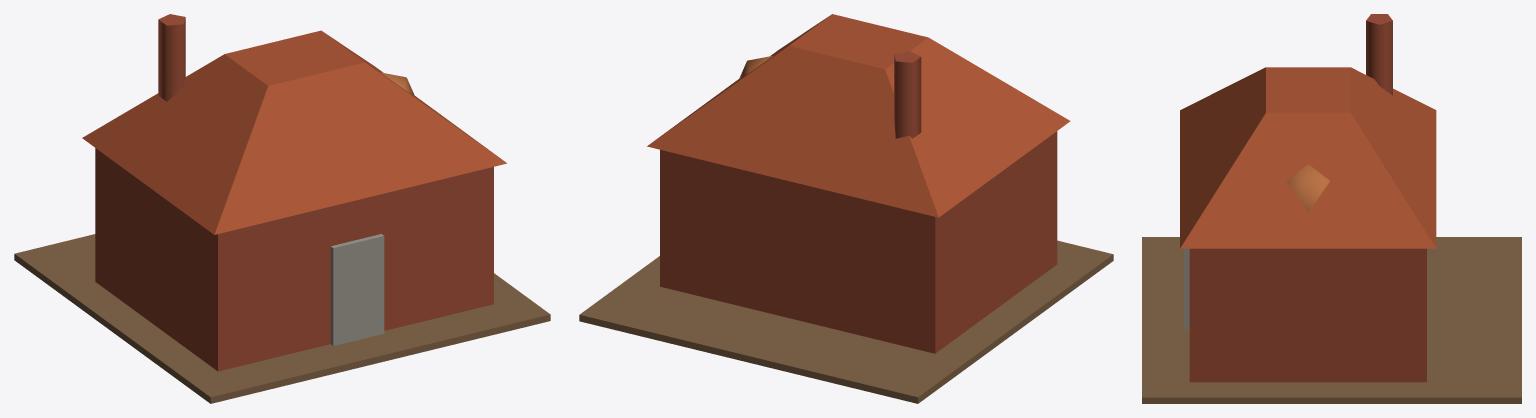
The model's file is bld_special_laboratory_a04_lod2.glb.
3 views of the same model, side by side, from view 1: azimuth 30°, elevation 25°; view 2: azimuth 150°, elevation 25°; view 3: azimuth 270°, elevation 25° (orthographic). The views are drawn at different scales.
Parts seen in each view (by area): view 1: body; view 2: body; view 3: body.
Boxes of the visible parts, bbox=[...] form: body: bbox=[14, 14, 550, 403]; body: bbox=[579, 14, 1113, 403]; body: bbox=[1142, 14, 1521, 403].
Size of the model in its own units: 8 by 6.15 by 8.
